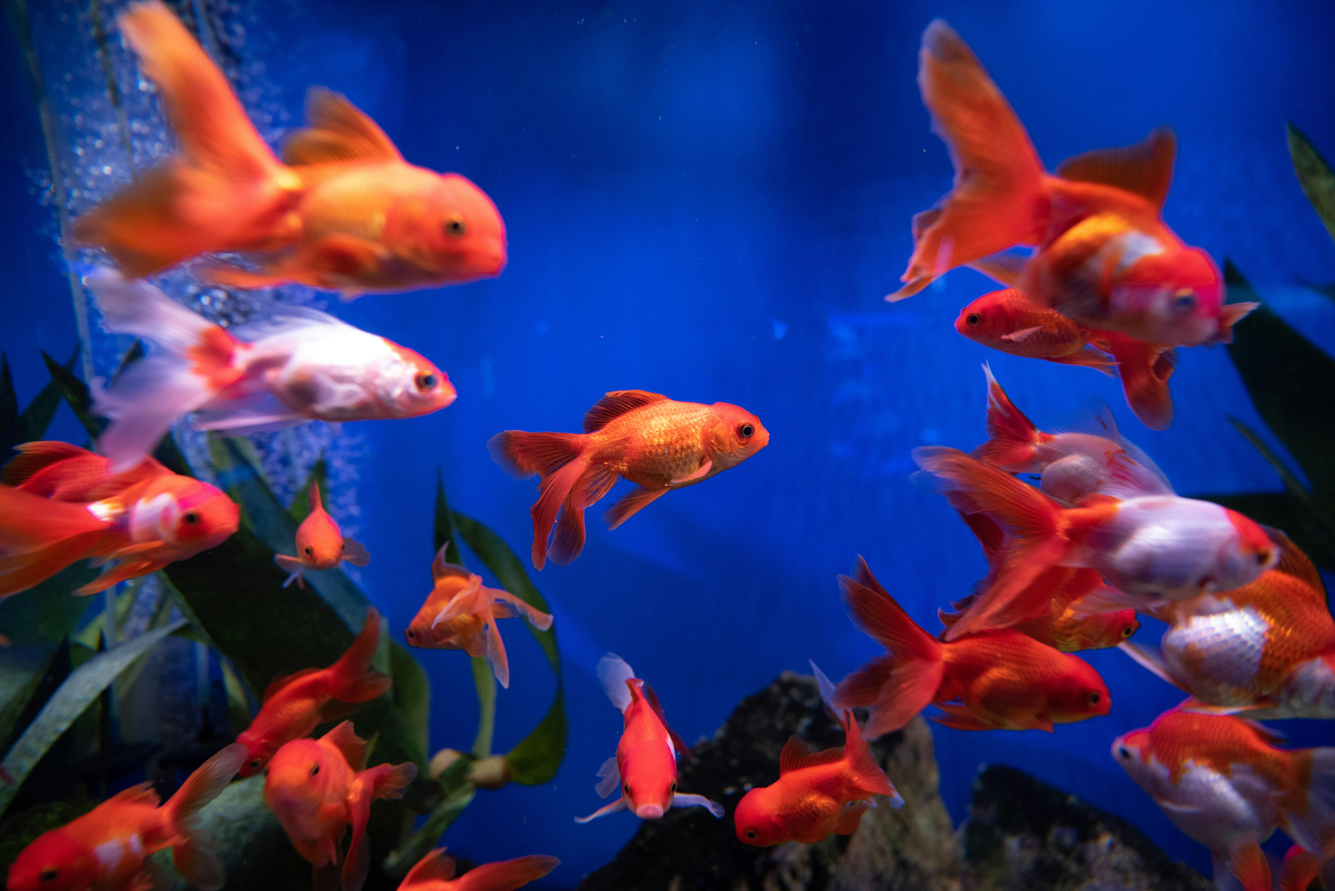fishes: (883, 25, 1335, 606), (888, 375, 1335, 743), (493, 389, 771, 567)
